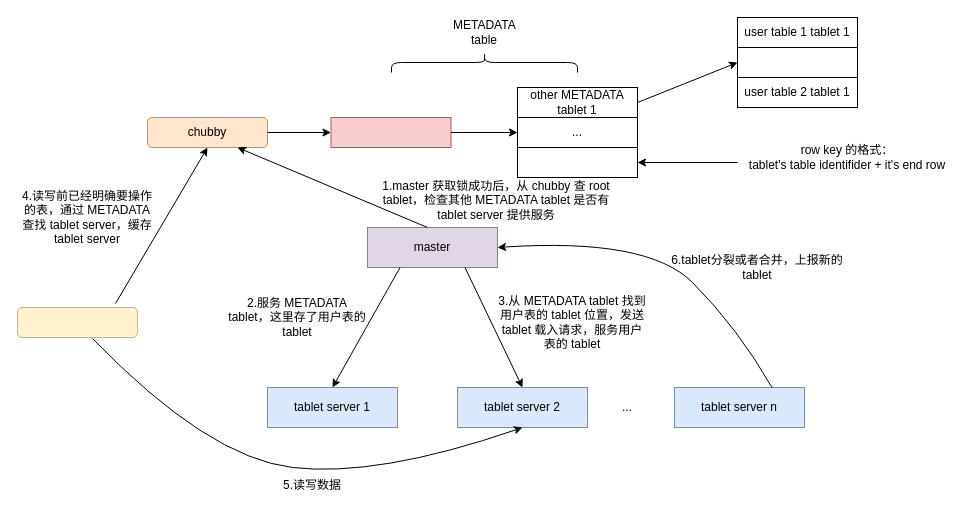
Some shapes in this 965 by 513 pixel diagram are drawn without their labels. The centre of each missing label's shape, as x and y in pixels:
other METADATA tablet n: the point at 577,162
root tablet: the point at 390,132
user table 1 tablet 2: the point at 797,62
客户端: the point at 77,322
